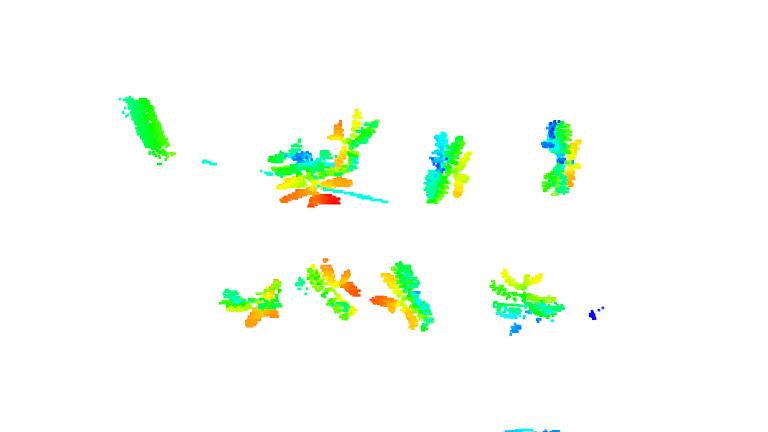chickpea: (261, 137, 350, 211), (488, 266, 567, 336), (324, 105, 382, 185), (375, 261, 437, 333), (297, 255, 363, 322), (415, 127, 472, 204), (217, 276, 289, 328), (537, 118, 582, 196)
